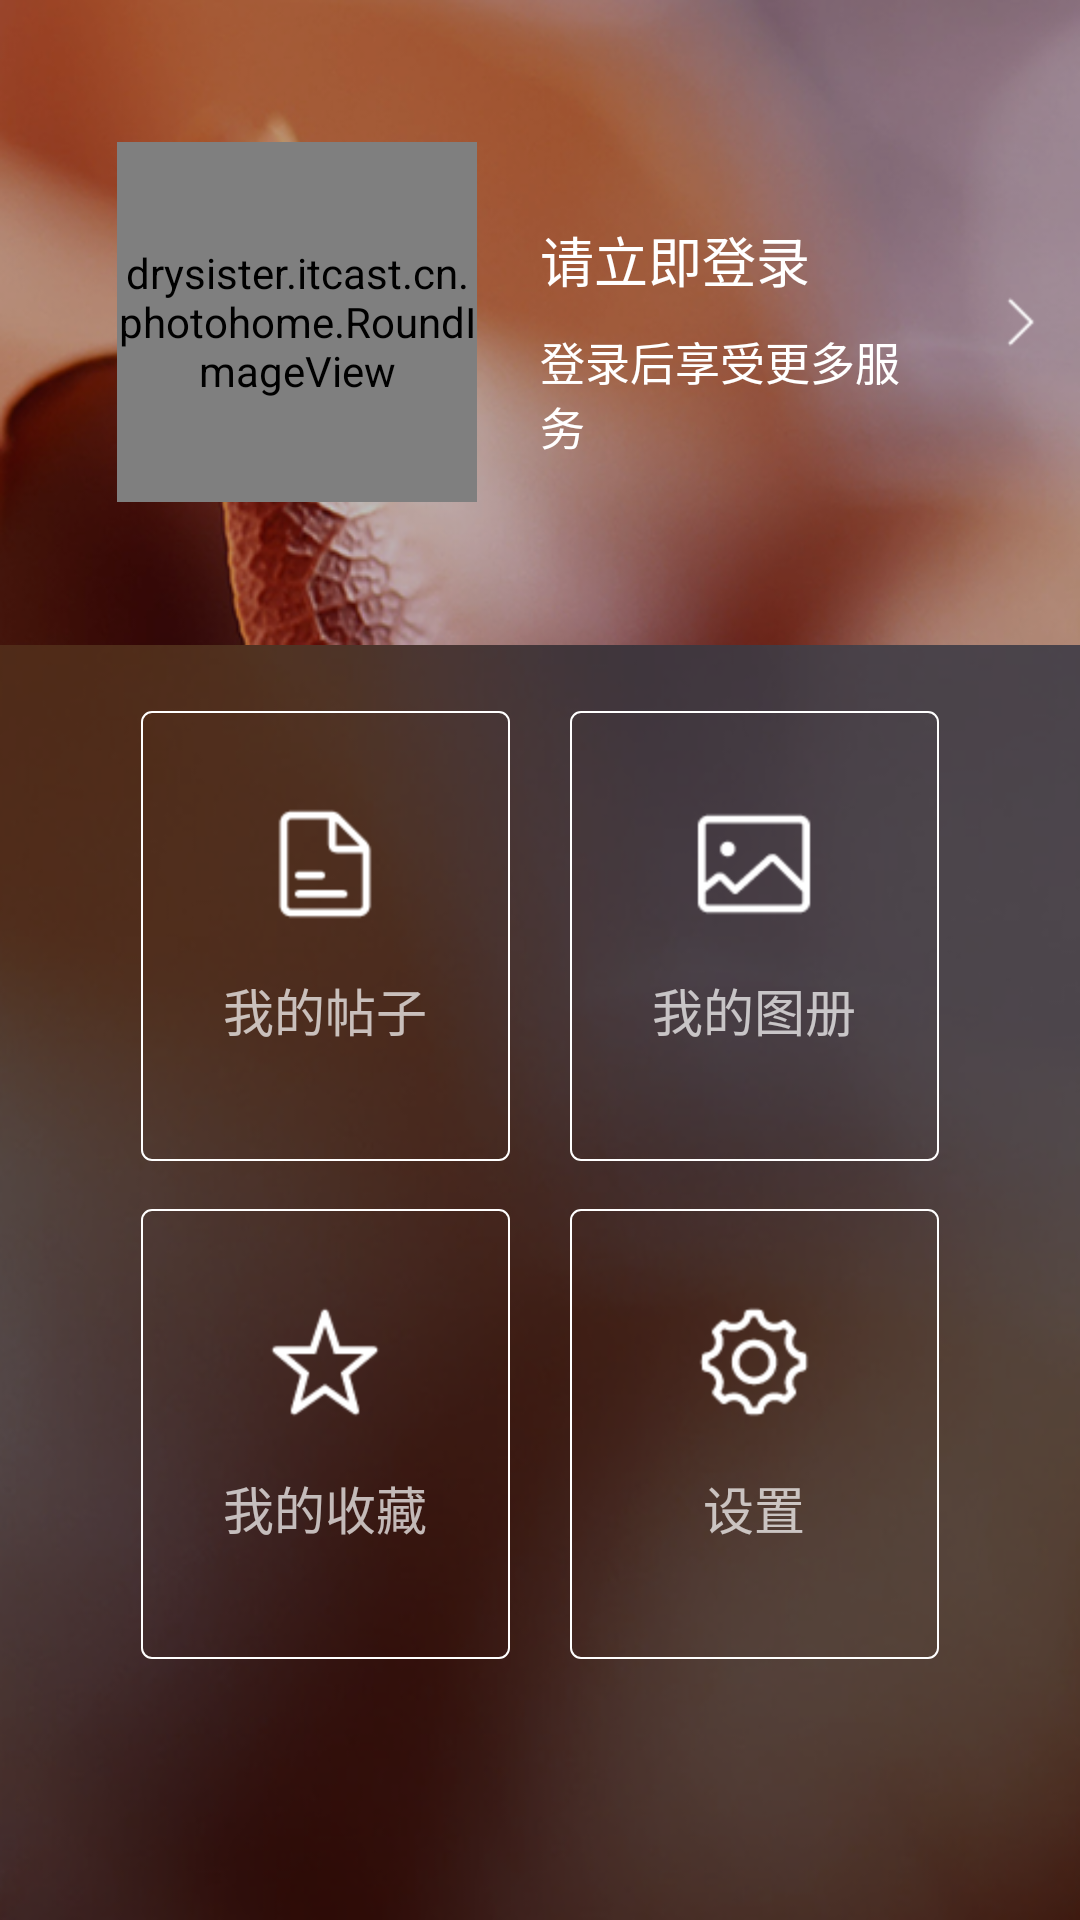

Icons on this 1080w x 1920h Android screen, each with the point to tap as (x,y):
doc: (325,864)
htb right: (1021,322)
photo: (754,864)
setting: (754,1362)
star: (325,1362)
